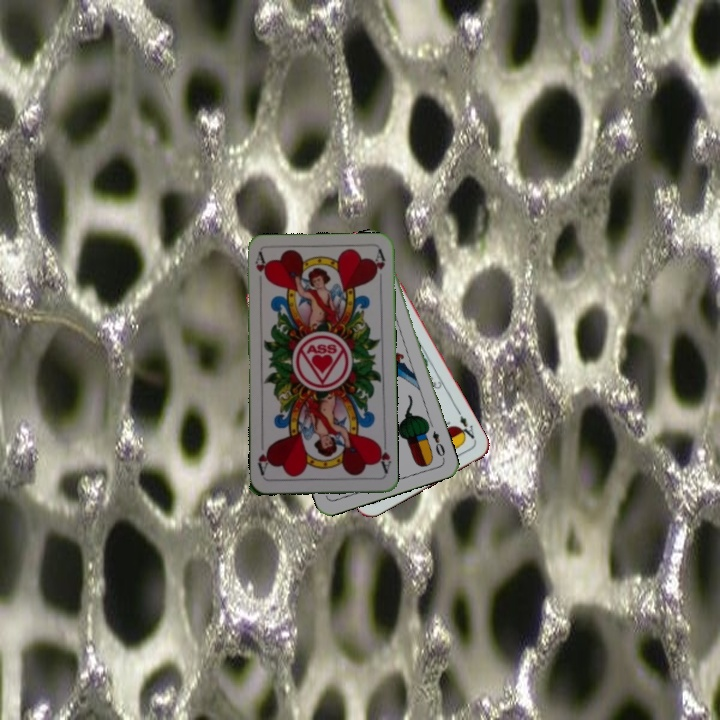EA: (454, 407, 479, 444)
EO: (428, 427, 448, 462)
HA: (373, 436, 393, 476), (251, 249, 270, 290)
